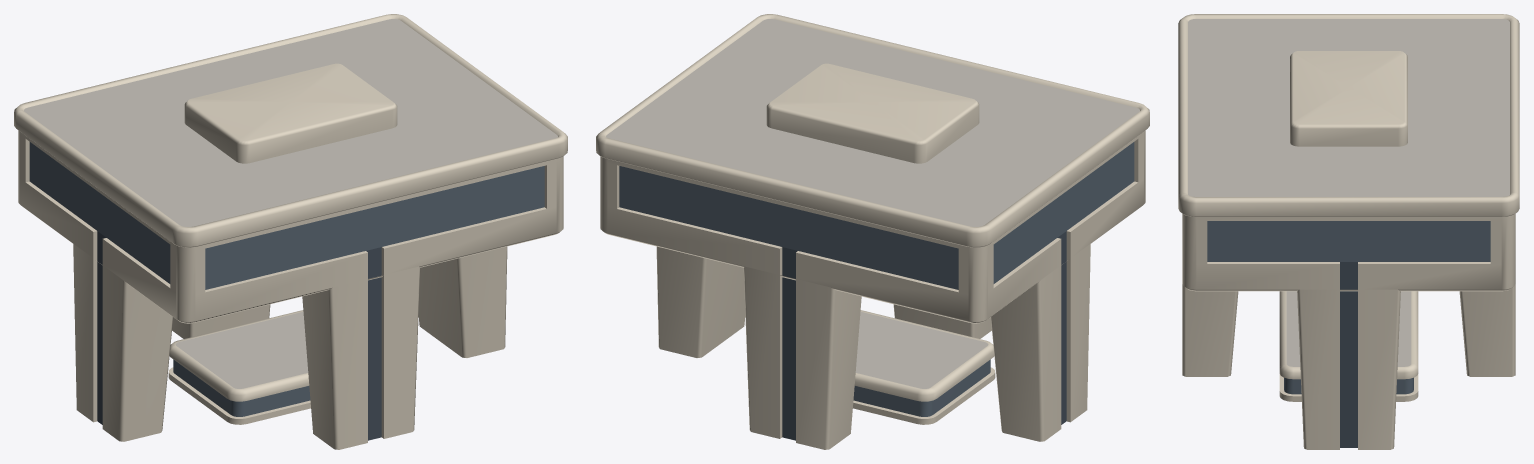
Rendered from terrace-on-the-park.glb.
The picture shows the model from 3 angles, left to right: view 1: azimuth 30°, elevation 25°; view 2: azimuth 150°, elevation 25°; view 3: azimuth 270°, elevation 25°; orthographic projection. The views are drawn at different scales.
Visible parts, largest first — view 1: Terrace on the Park; view 2: Terrace on the Park; view 3: Terrace on the Park.
Part boxes in pixels (left/top/right/bottom): Terrace on the Park: left=14, top=14, right=567, bottom=449; Terrace on the Park: left=596, top=14, right=1149, bottom=449; Terrace on the Park: left=1178, top=14, right=1519, bottom=449.
Size of the model in its own units: 64 by 43 by 49.2.
